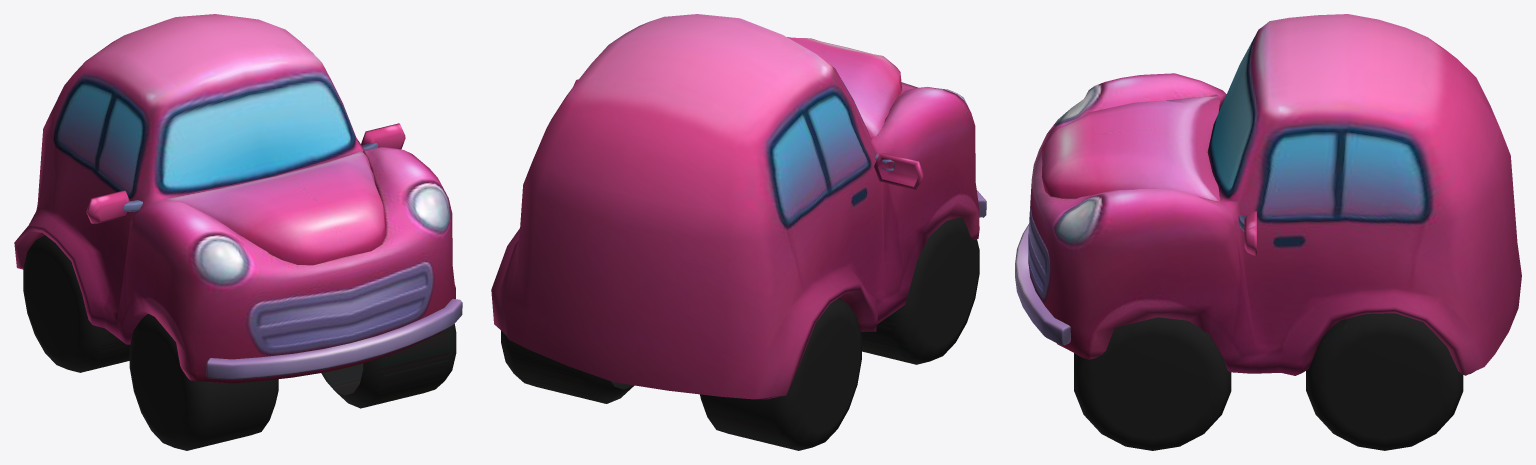
Rendered from Hong.fbx.
3 views of the same model, side by side, from view 1: azimuth 30°, elevation 25°; view 2: azimuth 150°, elevation 25°; view 3: azimuth 270°, elevation 25° (orthographic). The views are drawn at different scales.
Parts seen in each view (by area): view 1: Hong, HongBanh; view 2: Hong, HongBanh; view 3: Hong, HongBanh.
Boxes of the visible parts, box(x1,y1,x2,y2) form: Hong: box(14, 14, 462, 383); HongBanh: box(23, 235, 456, 450); Hong: box(491, 14, 986, 399); HongBanh: box(501, 217, 979, 450); Hong: box(1015, 14, 1521, 375); HongBanh: box(1074, 313, 1463, 450).
Size of the model in its own units: 1.99 by 2.52 by 1.94.
